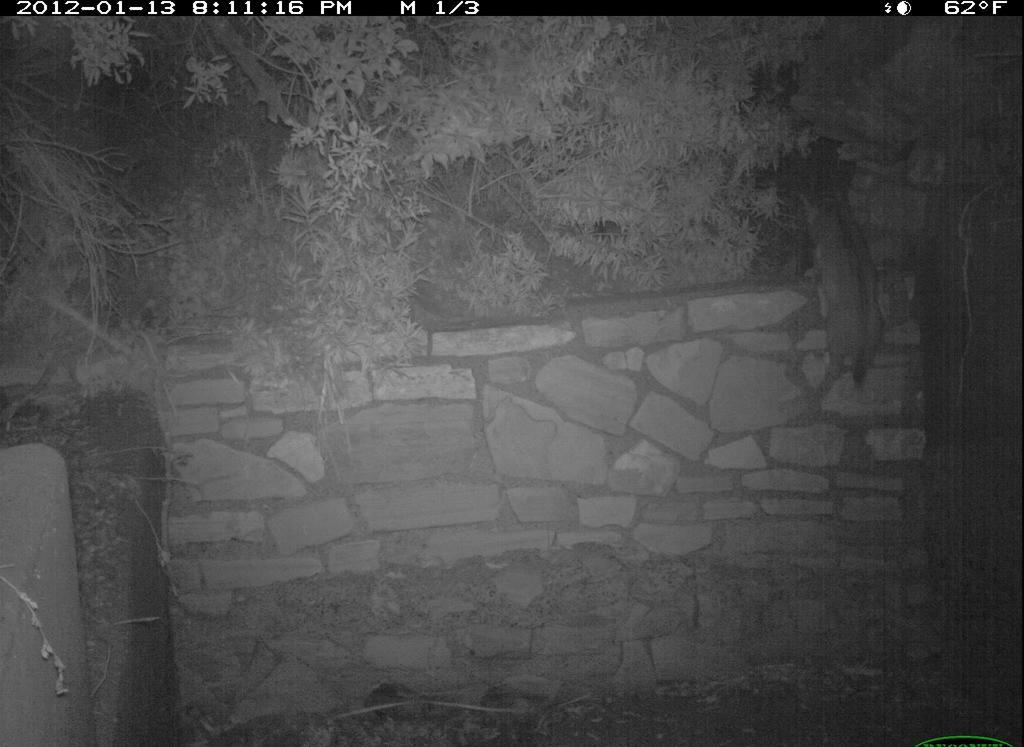bobcat: (777, 175, 894, 391)
